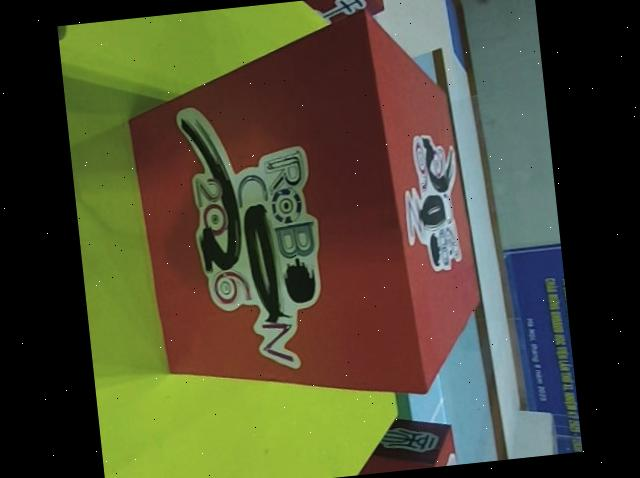R1: (116, 5, 489, 422)
R2 Fake: (354, 411, 462, 475), (282, 0, 386, 27)
